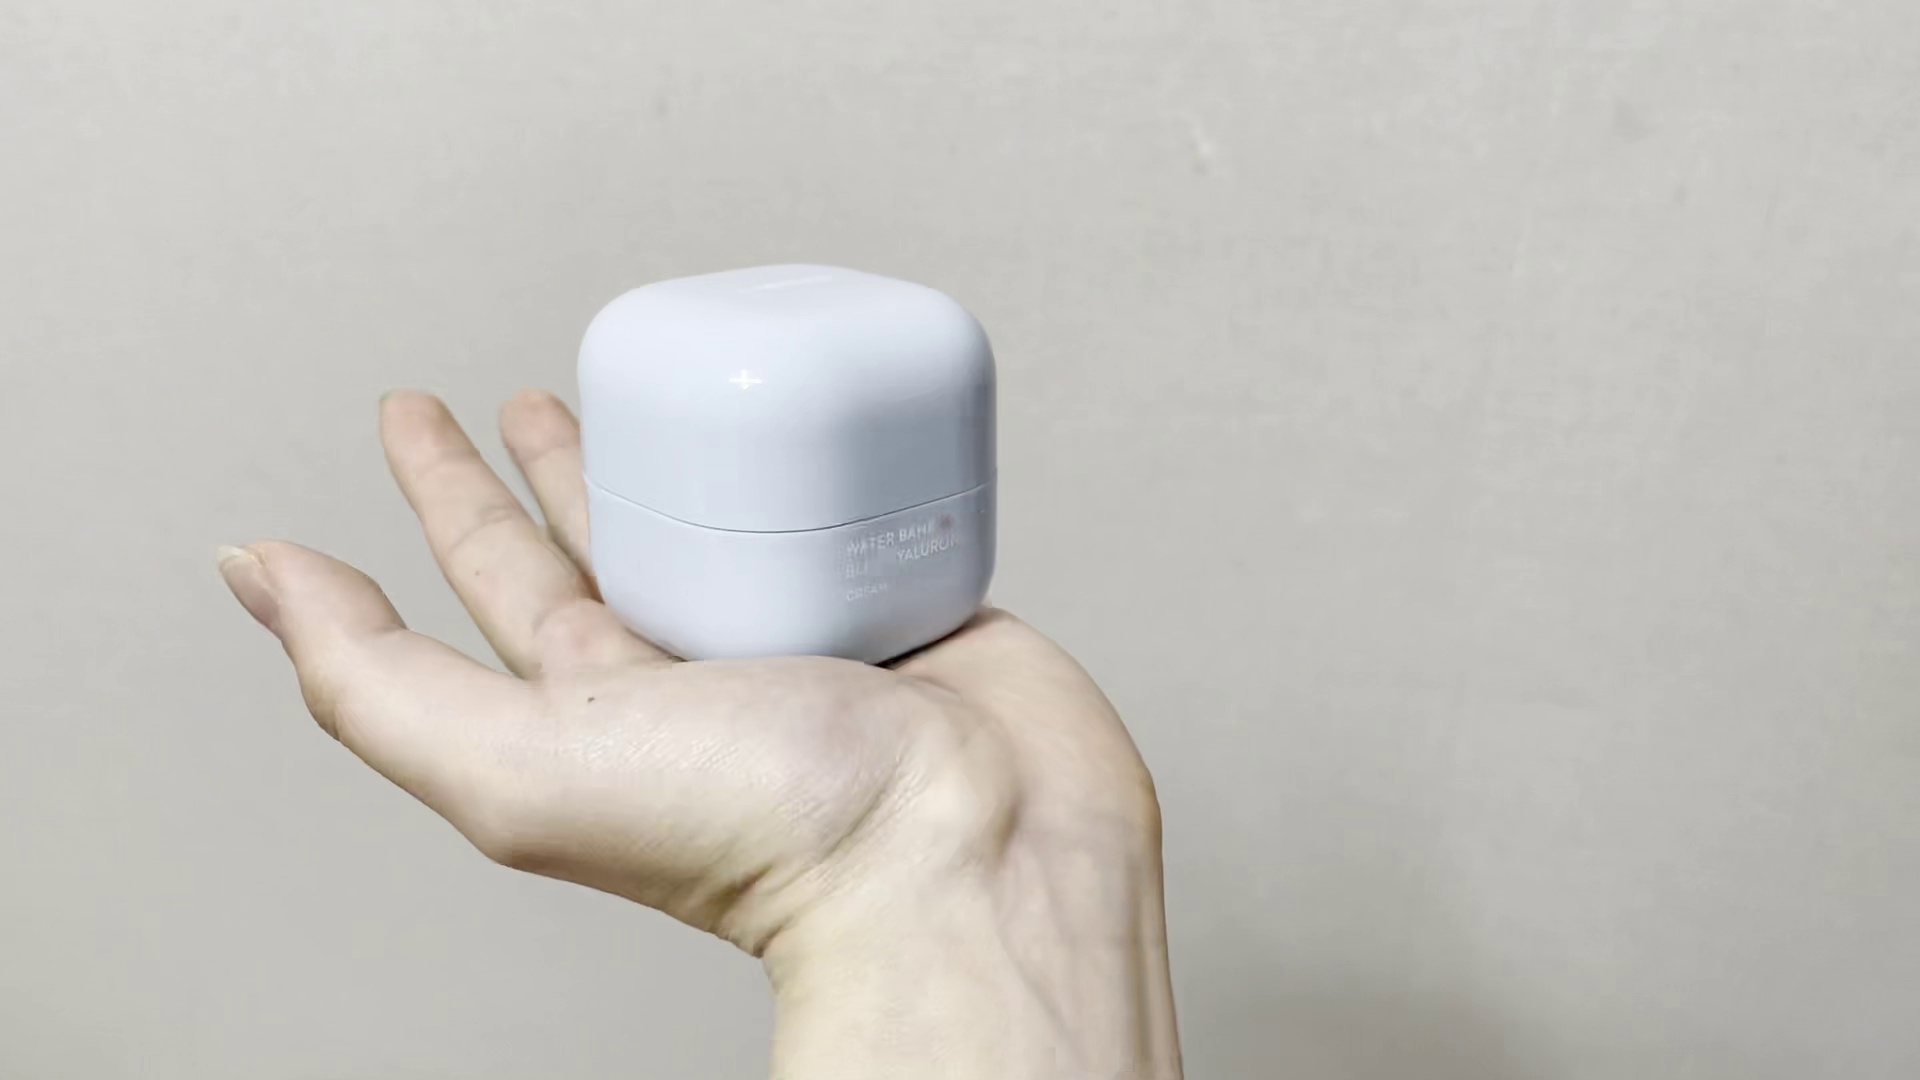cream: (568, 266, 1000, 658)
